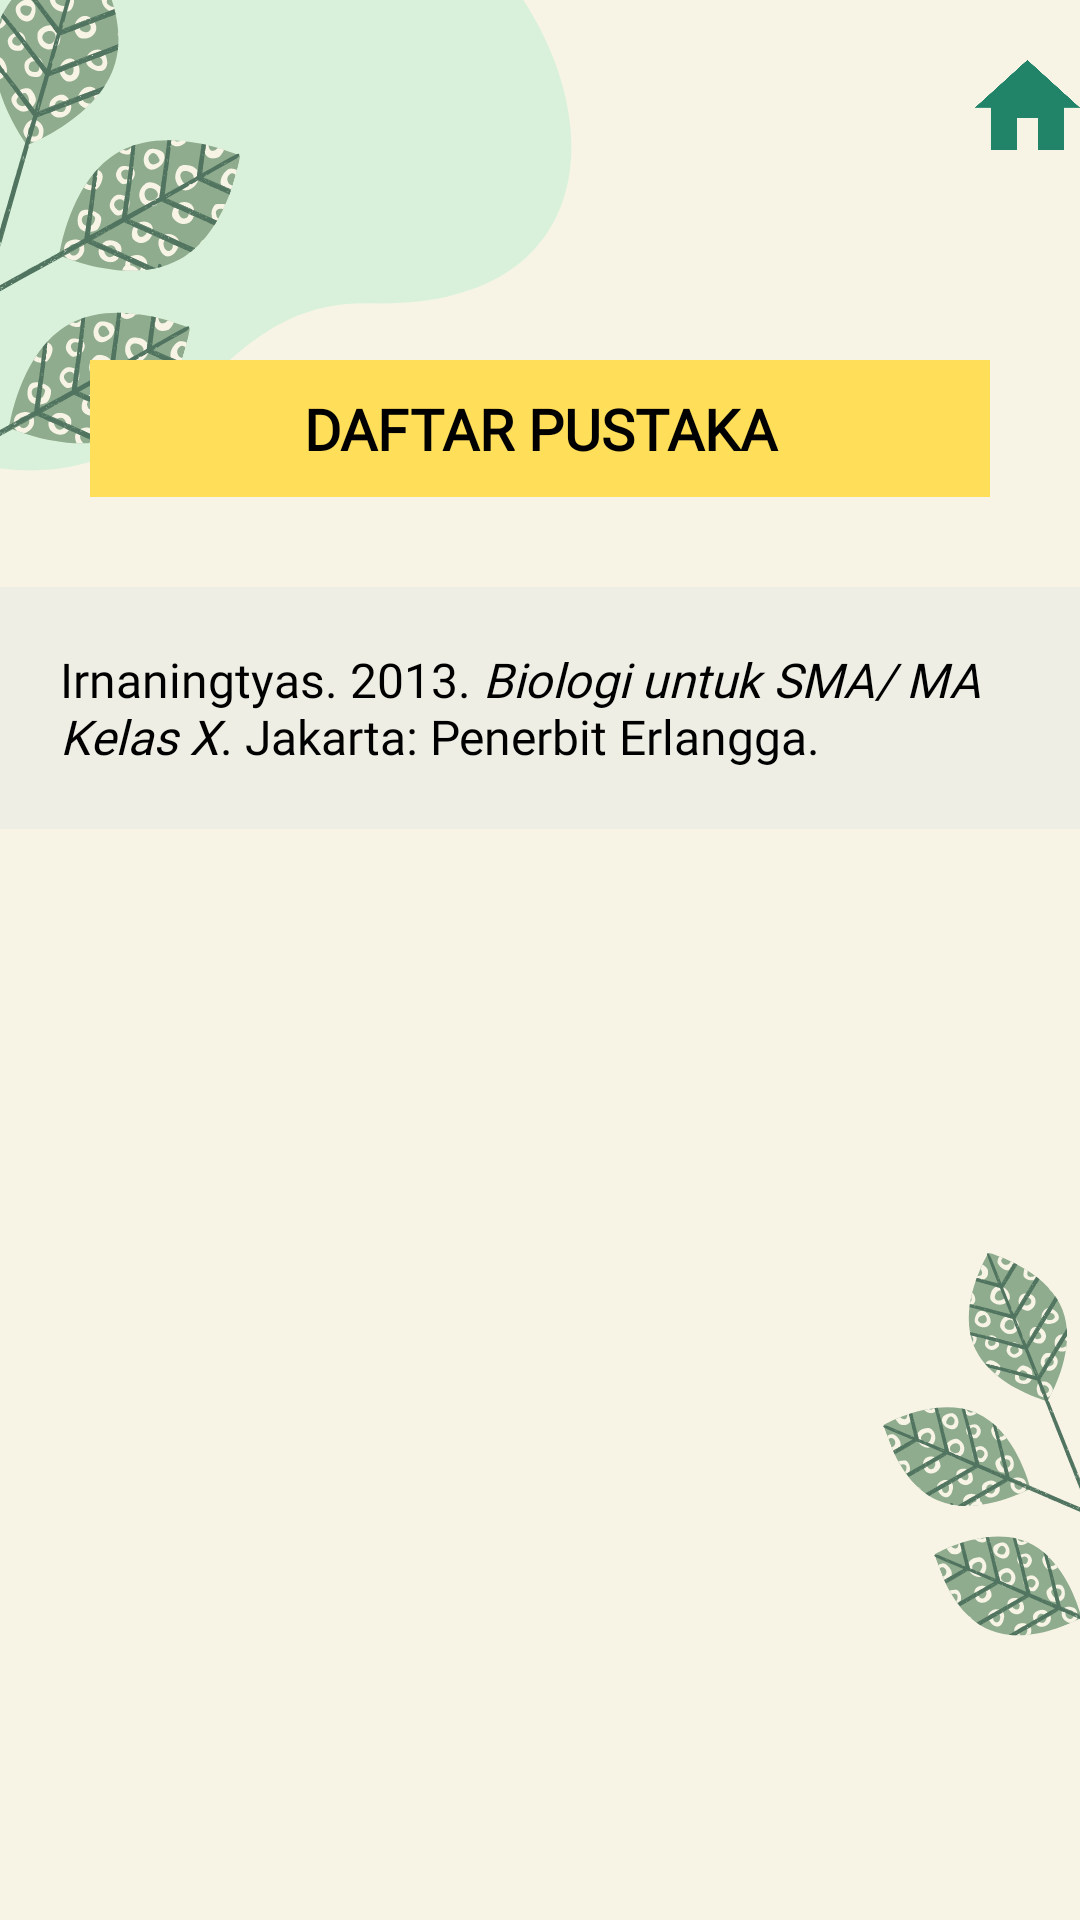

Screen size 1080*1920. Icon name, then its center in pixels as point (x, y):
home: point (1027, 105)
